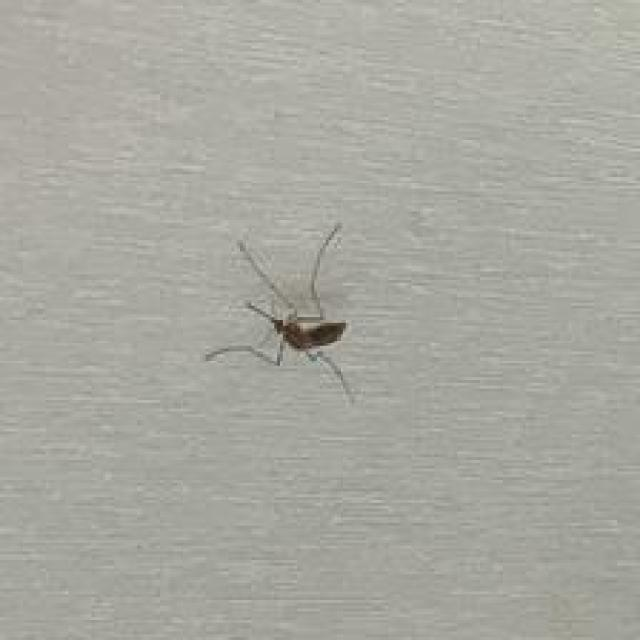Culex: (203, 222, 357, 404)
